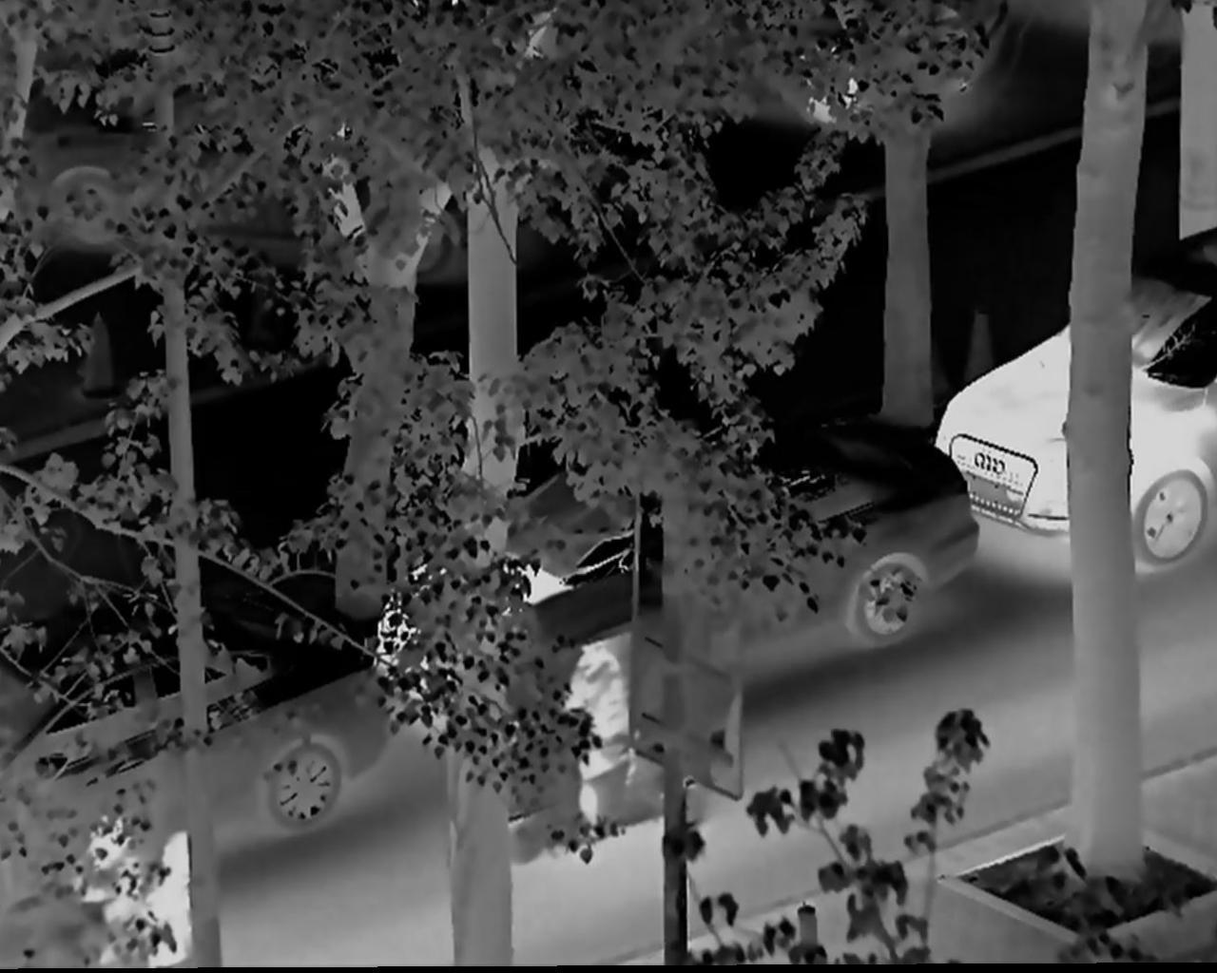person: (69, 815, 186, 966), (559, 638, 636, 833)
